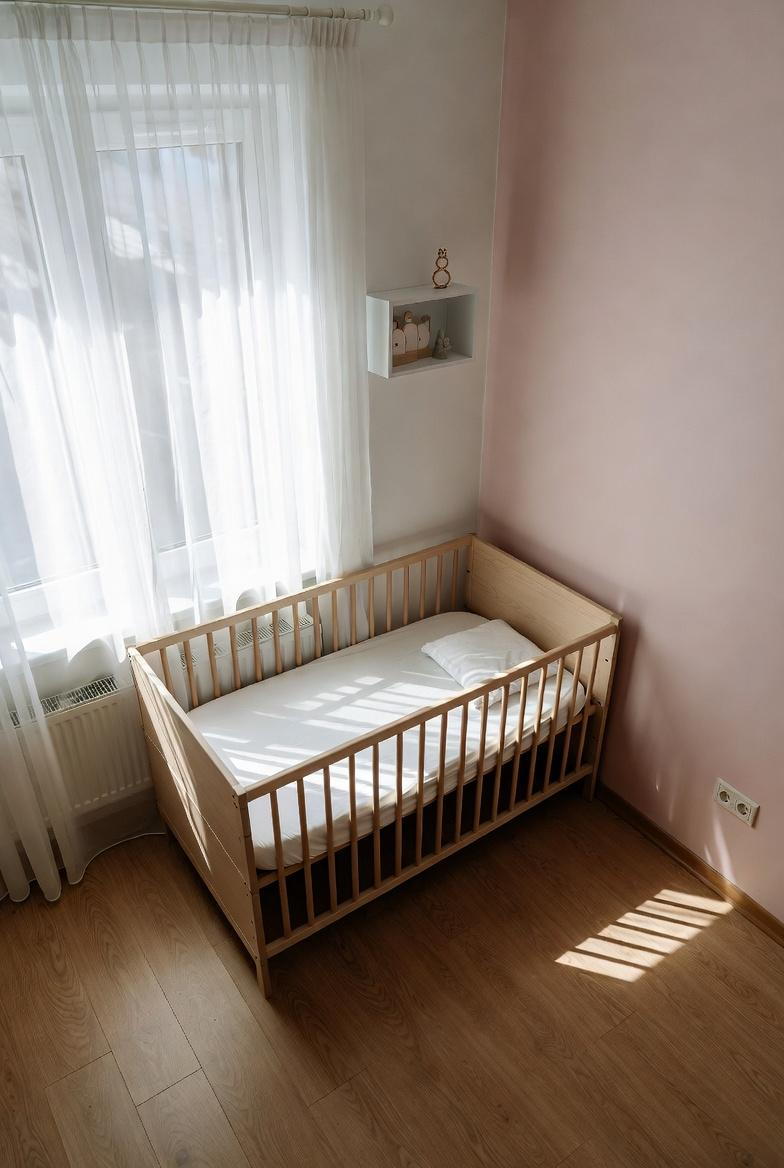crib: (107, 522, 647, 1007)
